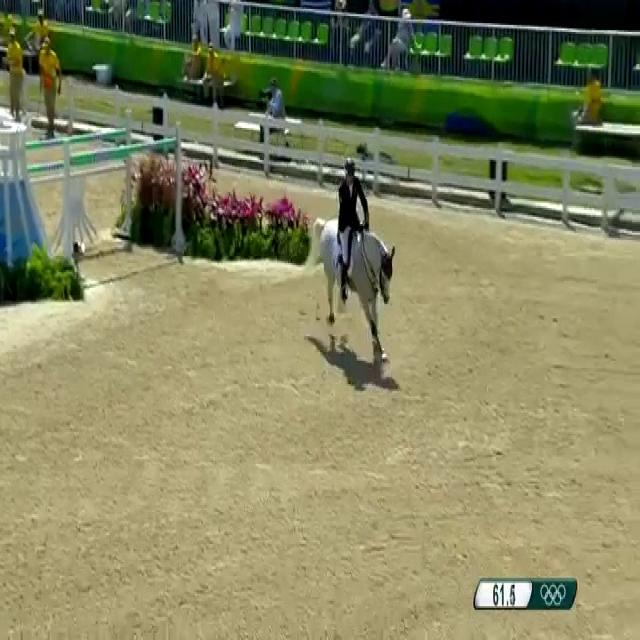non_violence: (316, 158, 393, 362)
